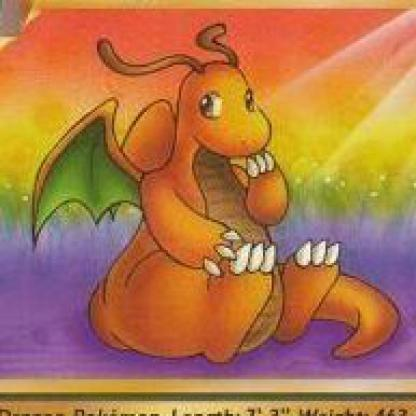Dragonite: (30, 29, 410, 381)
